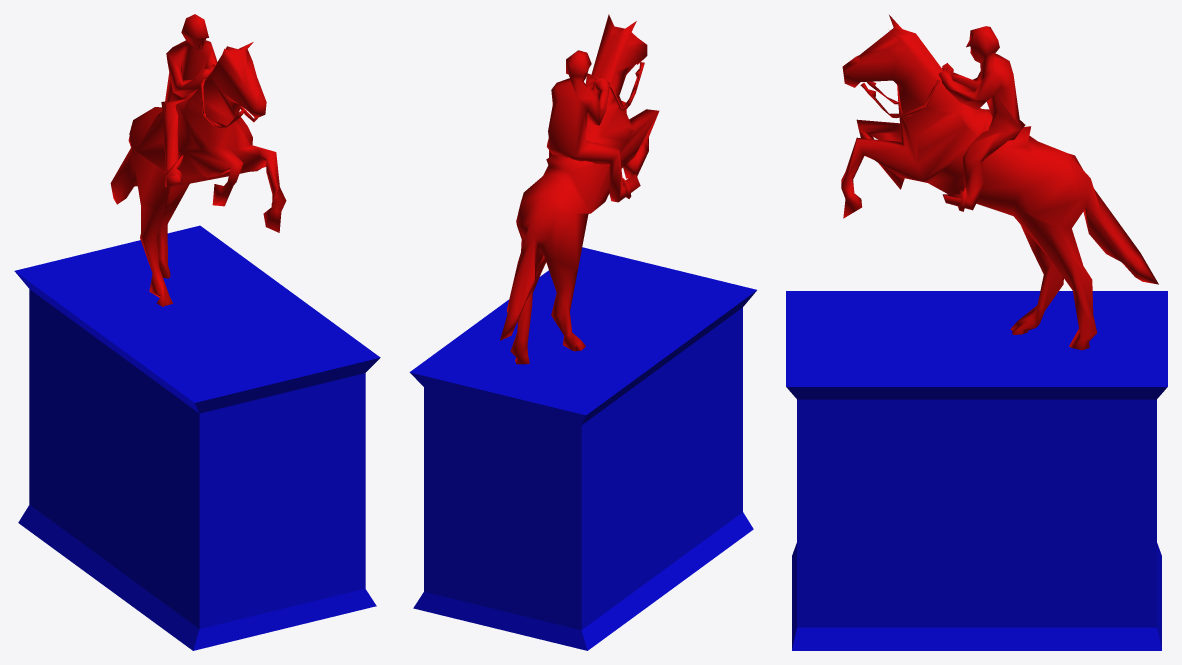
File: Horse.fbx
3 renders of one model, left to right at view 1: azimuth 30°, elevation 25°; view 2: azimuth 150°, elevation 25°; view 3: azimuth 270°, elevation 25°, orthographic. The views are drawn at different scales.
Visible parts, largest first — view 1: Cube; view 2: Cube; view 3: Cube.
Boxes of the visible parts, <box> form: Cube: <box>14,14,380,650</box>; Cube: <box>409,14,756,650</box>; Cube: <box>786,15,1167,650</box>.
Bounding box in the file's own units: 92.43 × 261 × 155.
